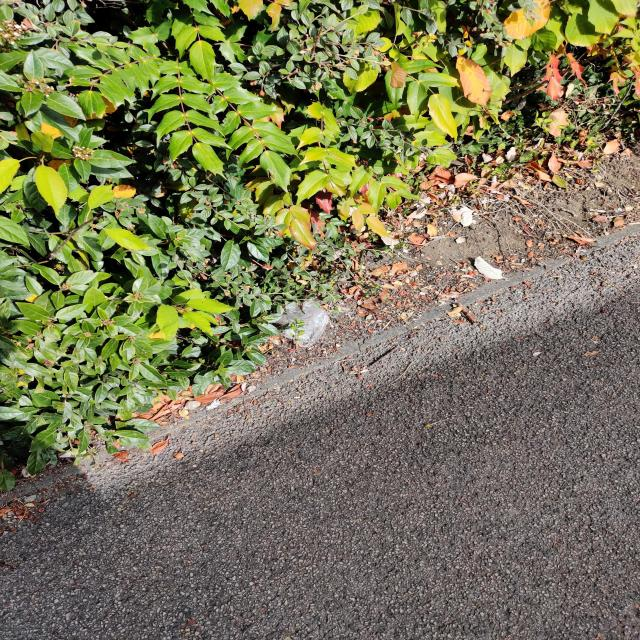litter: (260, 287, 340, 357)
